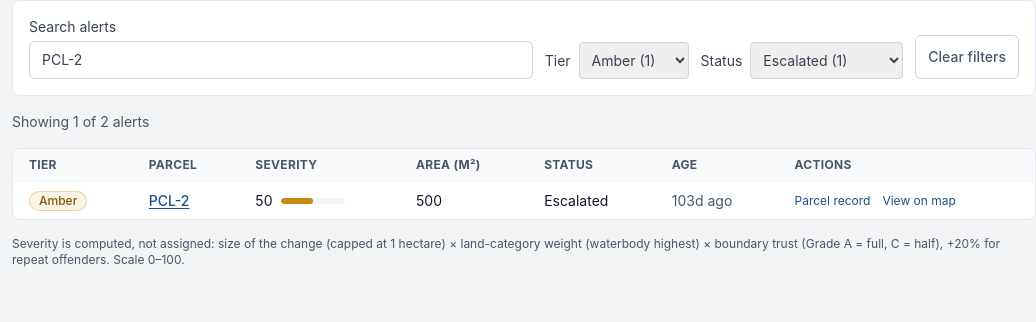
Test: AlertsTable — explainability (WP6) › clears all filters, restores every result, and removes filter params from the URL
expect the number of rows with test id "alert-row" is 1: met, box [13,182,1035,219]
Click the button "Clear filters": (967, 57) [915,35,1019,79]
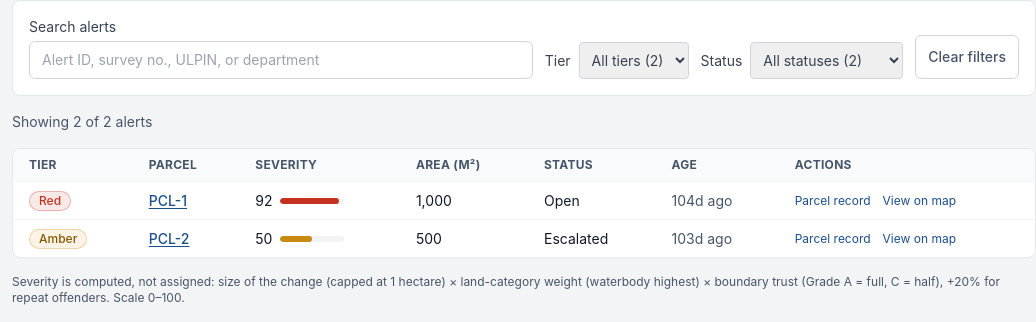
expect the number of rows with test id "alert-row" is 2: met, box [13,182,1035,220]; [13,220,1035,257]
expect the search field labelled "Search alerts" is empty: met, box [29,41,533,79]
expect the dropdown with test id "tier-filter" shows "All tiers (2)": met, box [579,42,689,79]
